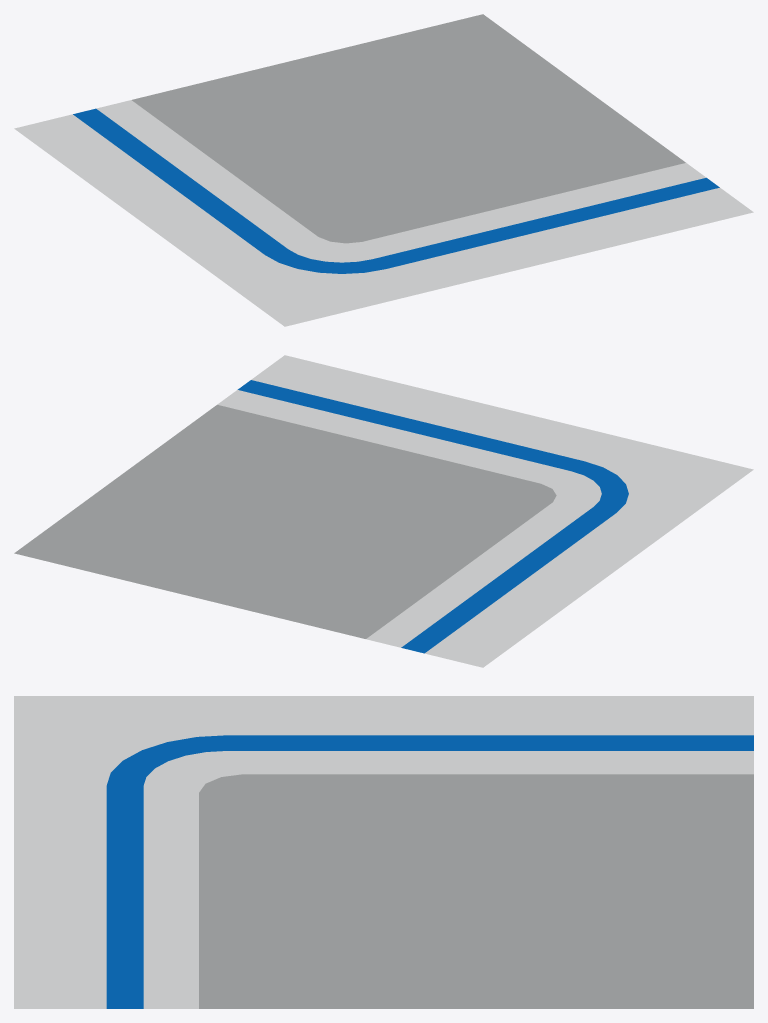
Rendered from Ceiling_type_A_013.fbx.
3 views of the same model, one above another, from view 1: azimuth 30°, elevation 25°; view 2: azimuth 150°, elevation 25°; view 3: azimuth 270°, elevation 25° (orthographic). The views are drawn at different scales.
Parts seen in each view (by area): view 1: Ceiling_type_A_013; view 2: Ceiling_type_A_013; view 3: Ceiling_type_A_013.
Part boxes in pixels (x1,y1,x2,y2): Ceiling_type_A_013: (14, 14, 753, 326); Ceiling_type_A_013: (14, 355, 753, 667); Ceiling_type_A_013: (14, 696, 753, 1008).
Size of the model in its own units: 400 by 400 by 5.71.
